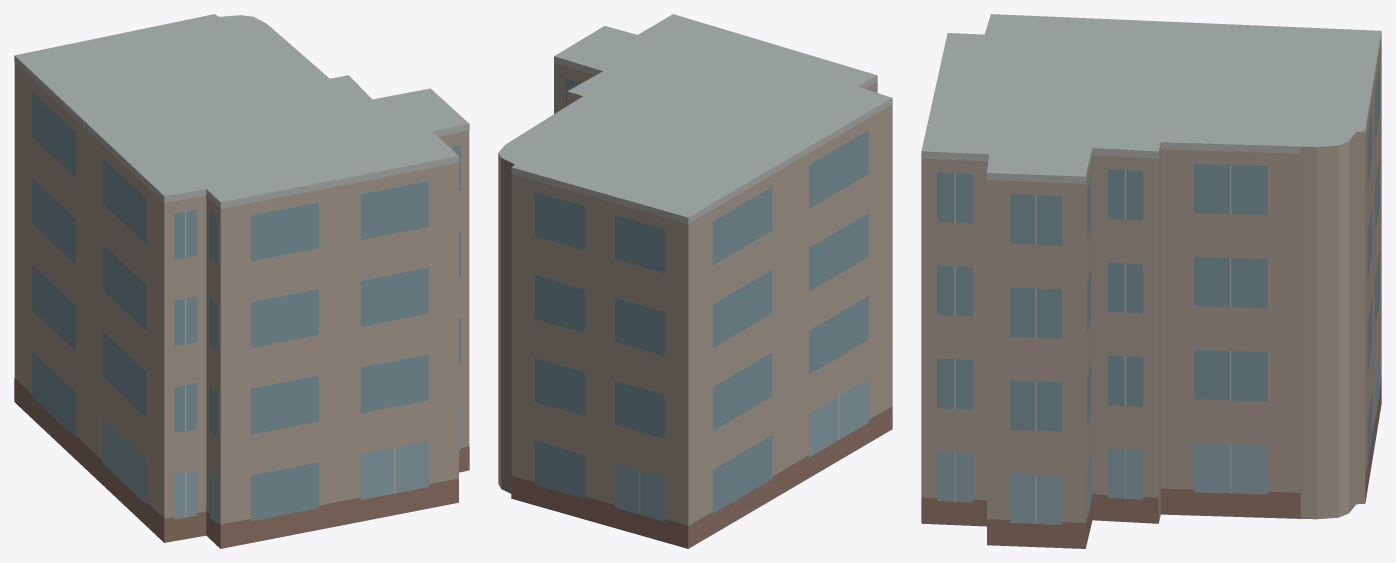
The model's file is survey-upis-32809287.glb.
3 views of the same model, side by side, from view 1: azimuth 30°, elevation 25°; view 2: azimuth 150°, elevation 25°; view 3: azimuth 270°, elevation 25° (orthographic). The views are drawn at different scales.
Visible parts, largest first — view 1: survey-upis-32809287.tmp; view 2: survey-upis-32809287.tmp; view 3: survey-upis-32809287.tmp.
Boxes of the visible parts, x1,y1,x2,y2 form: survey-upis-32809287.tmp: (14, 14, 469, 548); survey-upis-32809287.tmp: (498, 14, 892, 548); survey-upis-32809287.tmp: (921, 14, 1381, 548).
Bounding box in the file's own units: 11.91 × 12.7 × 14.24.
